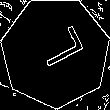L_SW: (26, 27, 84, 78)
